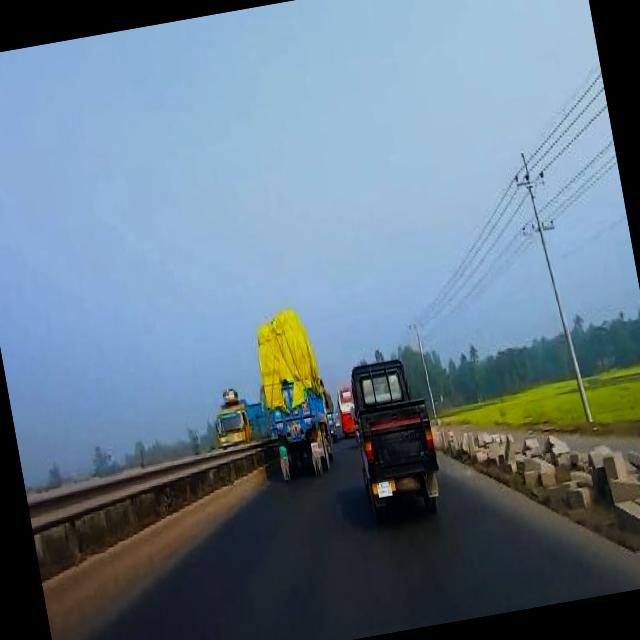bus: (334, 378, 358, 432)
truck: (344, 346, 445, 516), (254, 304, 338, 484), (210, 386, 268, 444), (322, 386, 340, 440)
